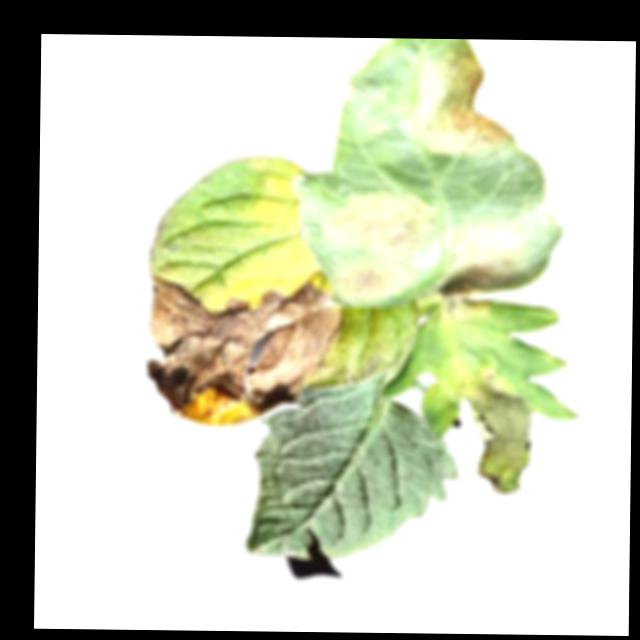Late_blight: (146, 276, 344, 428), (416, 38, 518, 159), (457, 365, 537, 495), (322, 188, 440, 261), (428, 222, 534, 300), (330, 258, 415, 305), (439, 298, 492, 323)
healthy: (244, 375, 459, 562)
